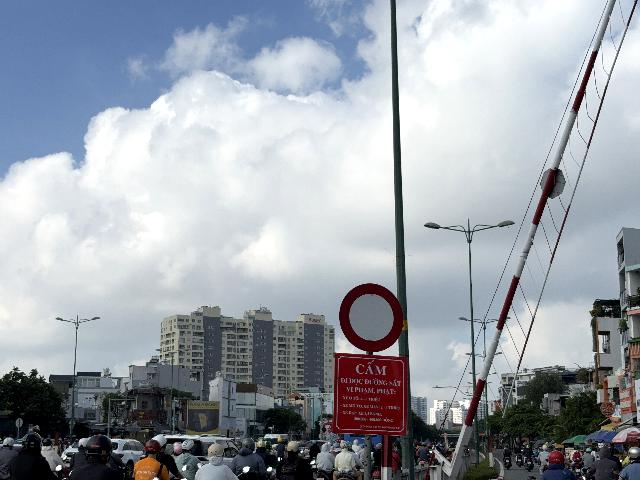duong-cam: (339, 283, 404, 352)
